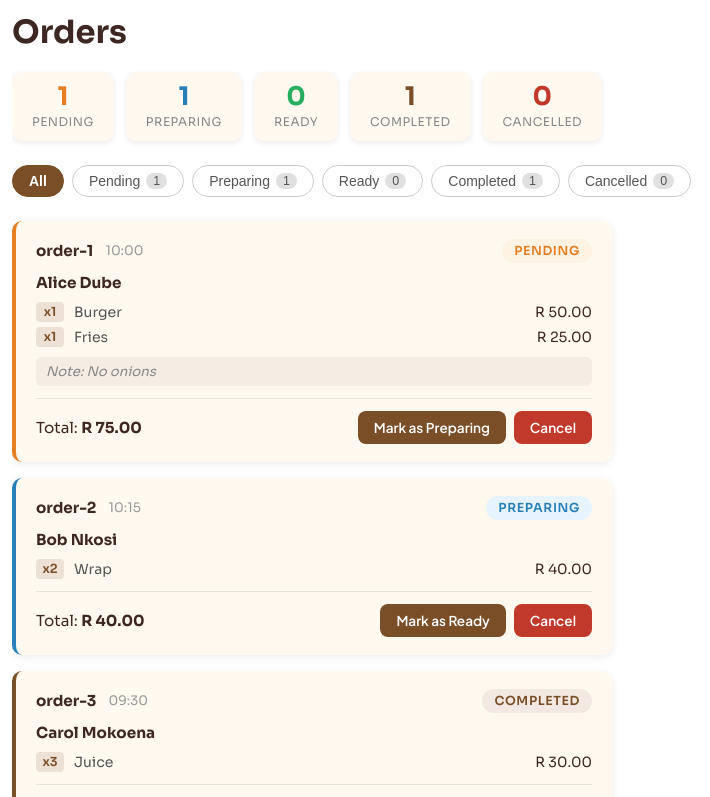
Test: Orders – filtering › filters to only pending orders when Pending tab is clicked
expect the text "Alice Dube" is shown: met, box left=36, top=273, right=121, bottom=292
Step 1. Click the button "Pending 1" → (128, 181), box left=72, top=165, right=184, bottom=197
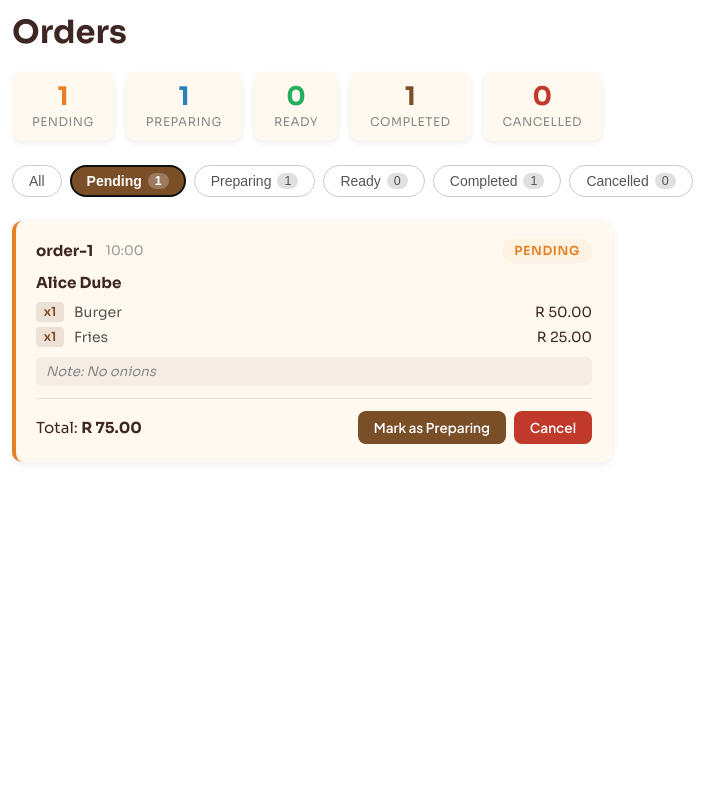
expect the text "Alice Dube" is shown: met, box left=36, top=273, right=121, bottom=292
expect the text "Bob Nkosi" is gone: met
expect the text "Carol Mokoena" is gone: met
